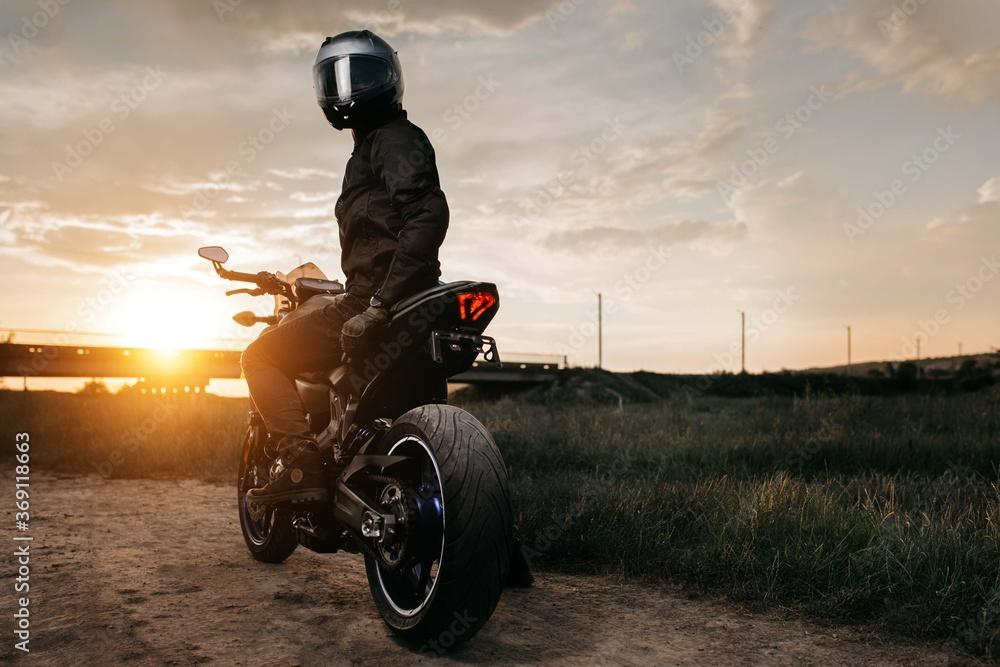helmet: (312, 28, 405, 132)
